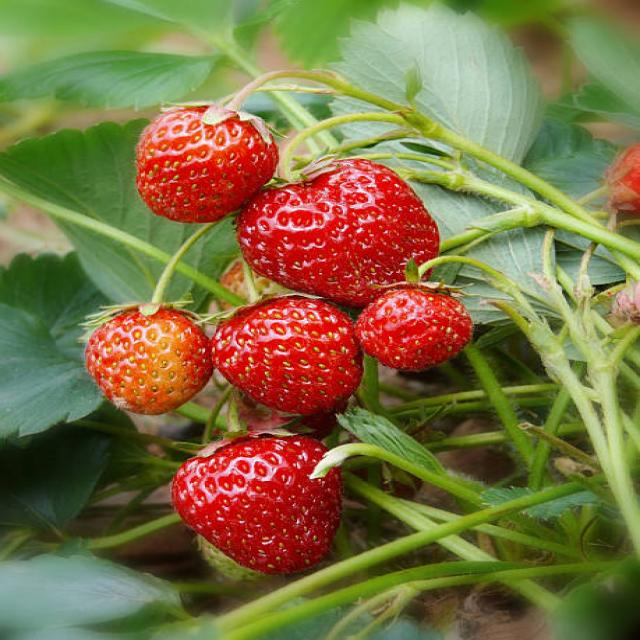Healthy Fruit: (236, 158, 443, 303), (170, 429, 342, 578), (208, 296, 364, 416), (135, 107, 279, 221), (84, 307, 209, 416), (356, 291, 472, 372)
